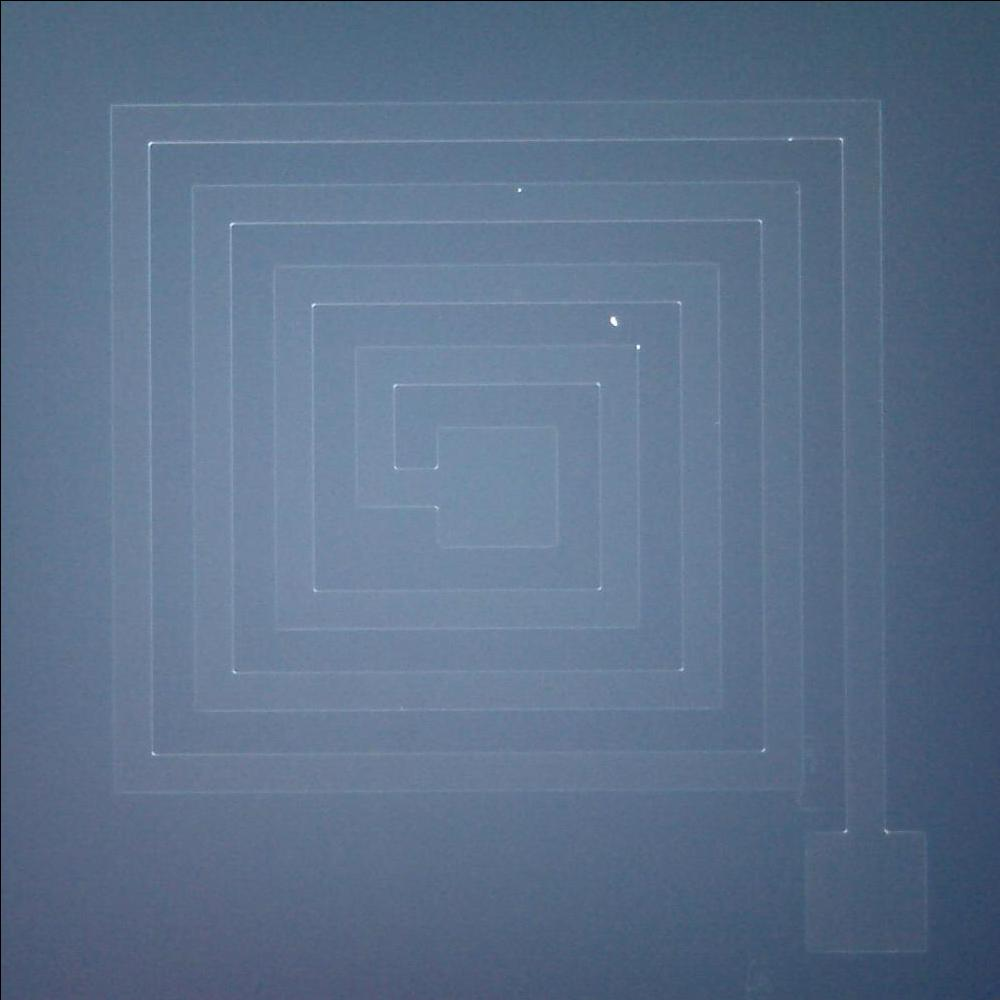dot: (501, 178, 534, 202)
spot: (600, 310, 628, 332)
